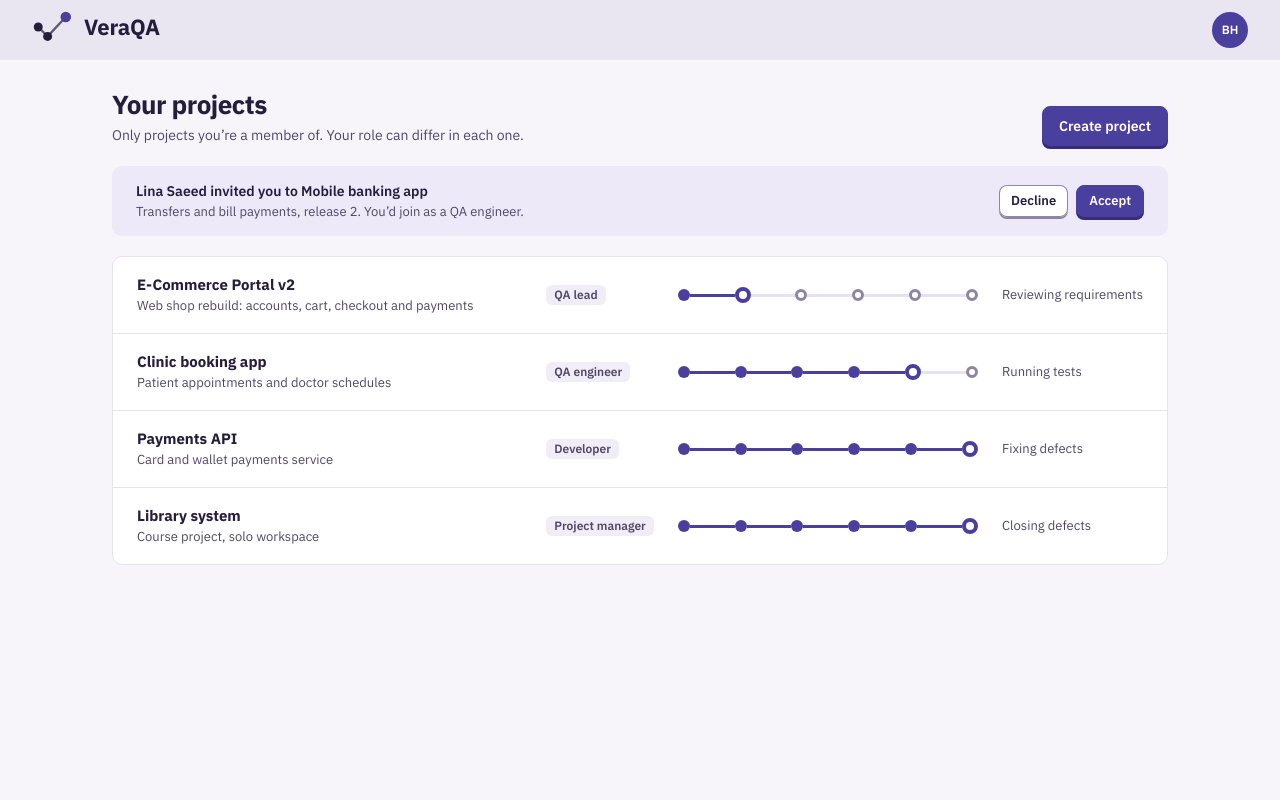
Test: Create project › makes you project manager of a solo project and opens its dashboard
Later steps or results of the test are not shown.
Click the button "Create project".
click(1105, 126)  # box top-left (1042, 106), bottom-right (1168, 146)
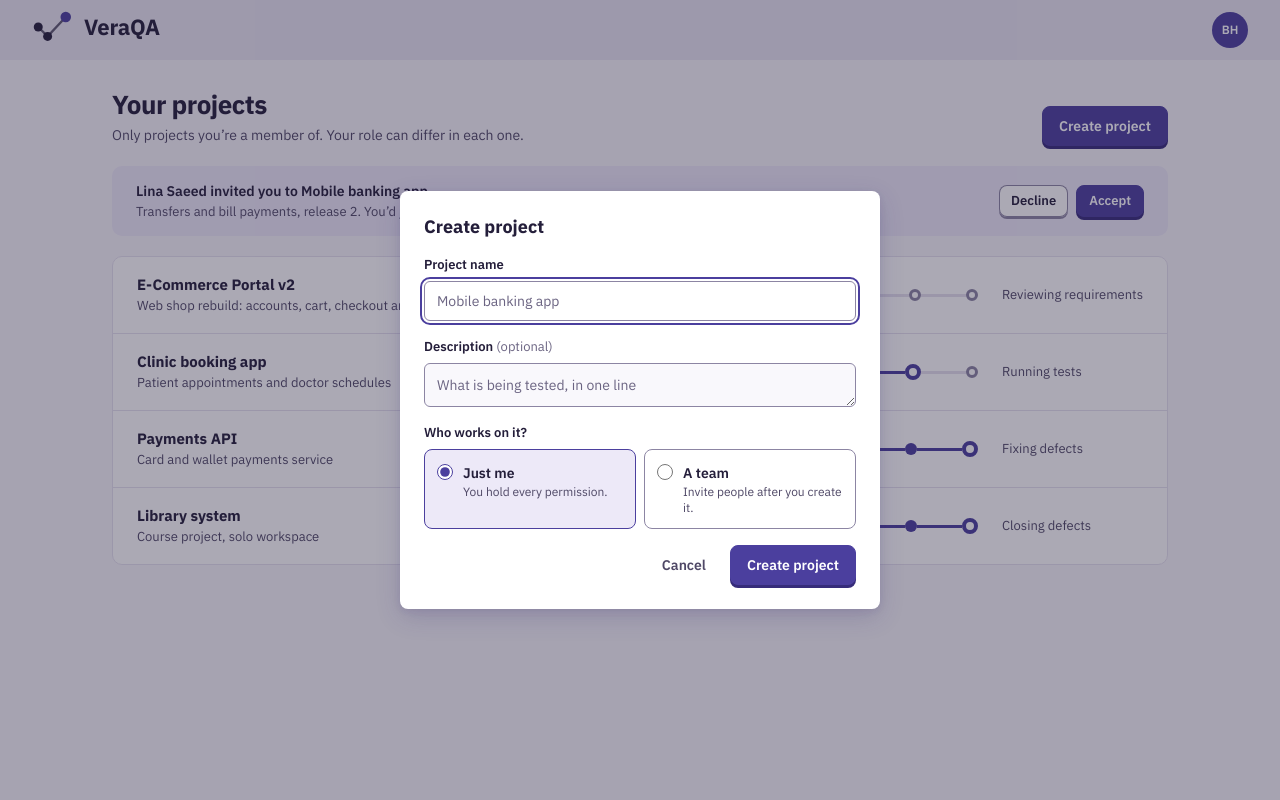
Result: the radio button labelled "Just me" is checked at top-left (437, 464), bottom-right (453, 480)
